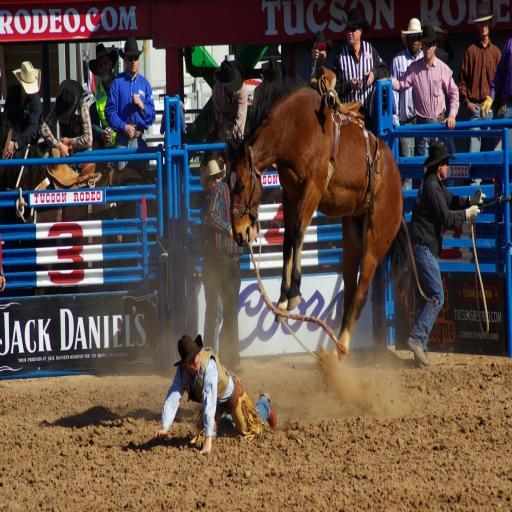Horse: (220, 75, 416, 354)
